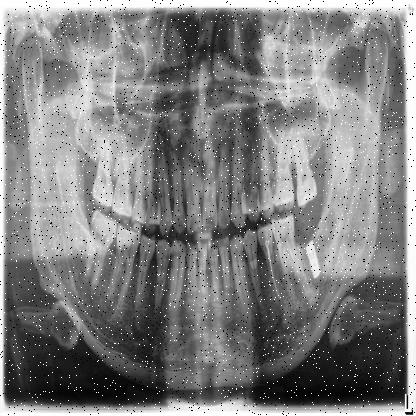ITI: (302, 229, 324, 284)
